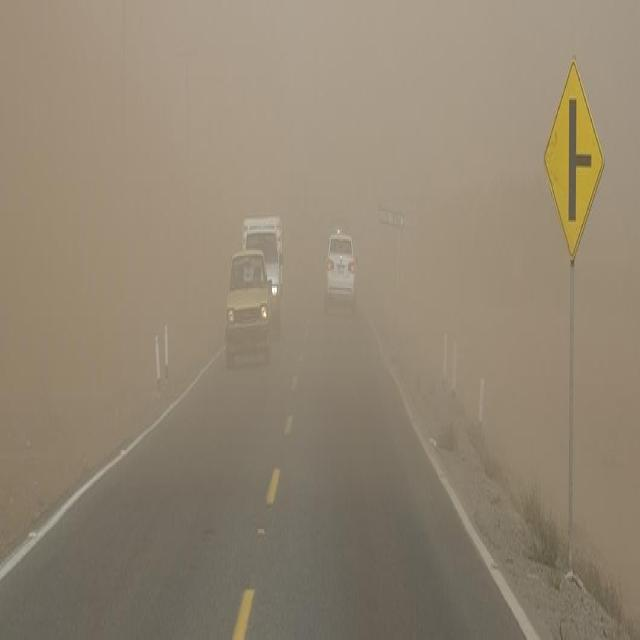Car: (225, 254, 270, 364), (324, 229, 358, 313)
Truck: (238, 216, 286, 324)
